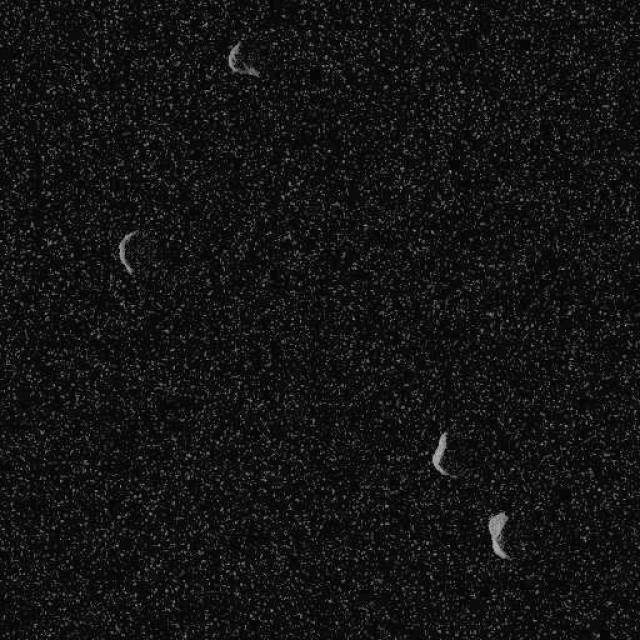D2: (430, 430, 458, 479), (226, 38, 260, 78), (487, 510, 512, 560), (116, 229, 139, 275)
